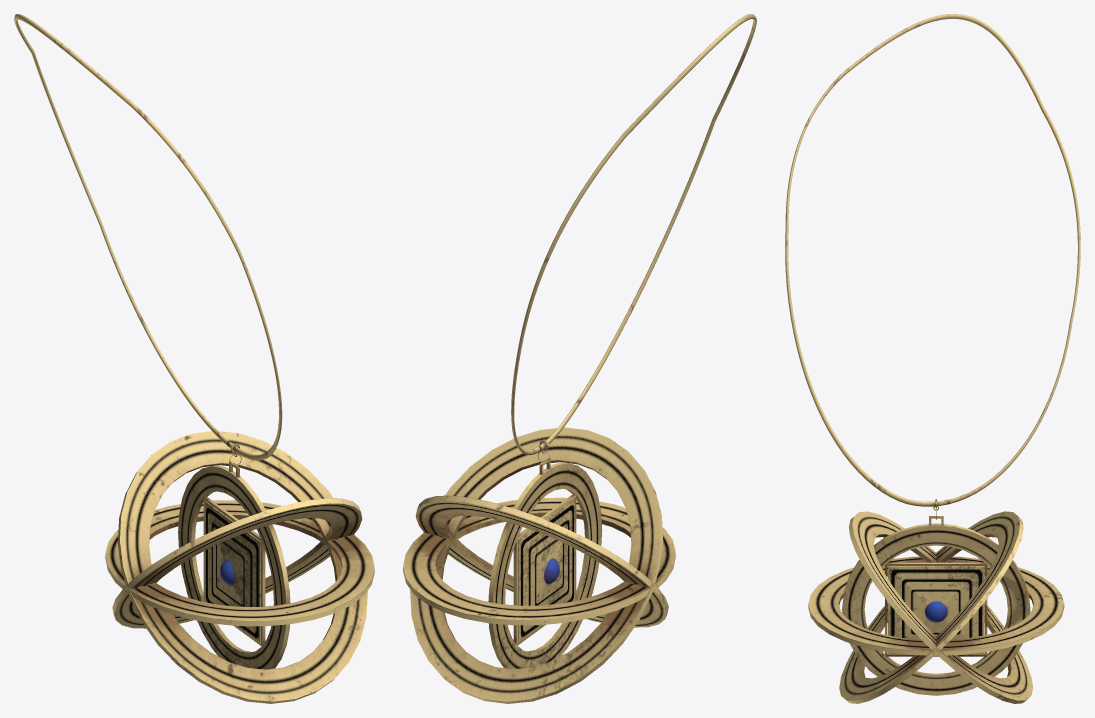
The model's file is aMULETO.fbx.
3 views of the same model, side by side, from view 1: azimuth 30°, elevation 25°; view 2: azimuth 150°, elevation 25°; view 3: azimuth 270°, elevation 25° (orthographic). The views are drawn at different scales.
Parts seen in each view (by area): view 1: Circle.003, Circle.002, Circle.001, Circle.004, Cube, NurbsCircle; view 2: Circle.004, Circle.002, Circle.001, Circle.003, Cube, NurbsCircle; view 3: Circle.001, Circle.002, Cube, Circle.004, Circle.003, NurbsCircle.
Part boxes in pixels (bbox=[...]): Circle.003: bbox=[117, 431, 367, 703]; Circle.002: bbox=[105, 500, 374, 626]; Circle.001: bbox=[178, 465, 290, 669]; Circle.004: bbox=[112, 498, 362, 628]; Cube: bbox=[203, 497, 265, 646]; NurbsCircle: bbox=[14, 14, 282, 460]; Circle.004: bbox=[410, 427, 663, 703]; Circle.002: bbox=[403, 497, 675, 625]; Circle.001: bbox=[488, 462, 602, 668]; Circle.003: bbox=[415, 495, 668, 627]; Cube: bbox=[513, 494, 576, 645]; NurbsCircle: bbox=[511, 14, 756, 454]; Circle.001: bbox=[842, 523, 1030, 695]; Circle.002: bbox=[808, 556, 1064, 655]; Cube: bbox=[885, 562, 987, 656]; Circle.004: bbox=[849, 511, 1033, 703]; Circle.003: bbox=[839, 511, 1023, 703]; NurbsCircle: bbox=[785, 14, 1080, 506].
Size of the model in its own units: 307 by 646 by 289.
1 material, 1 textured.
